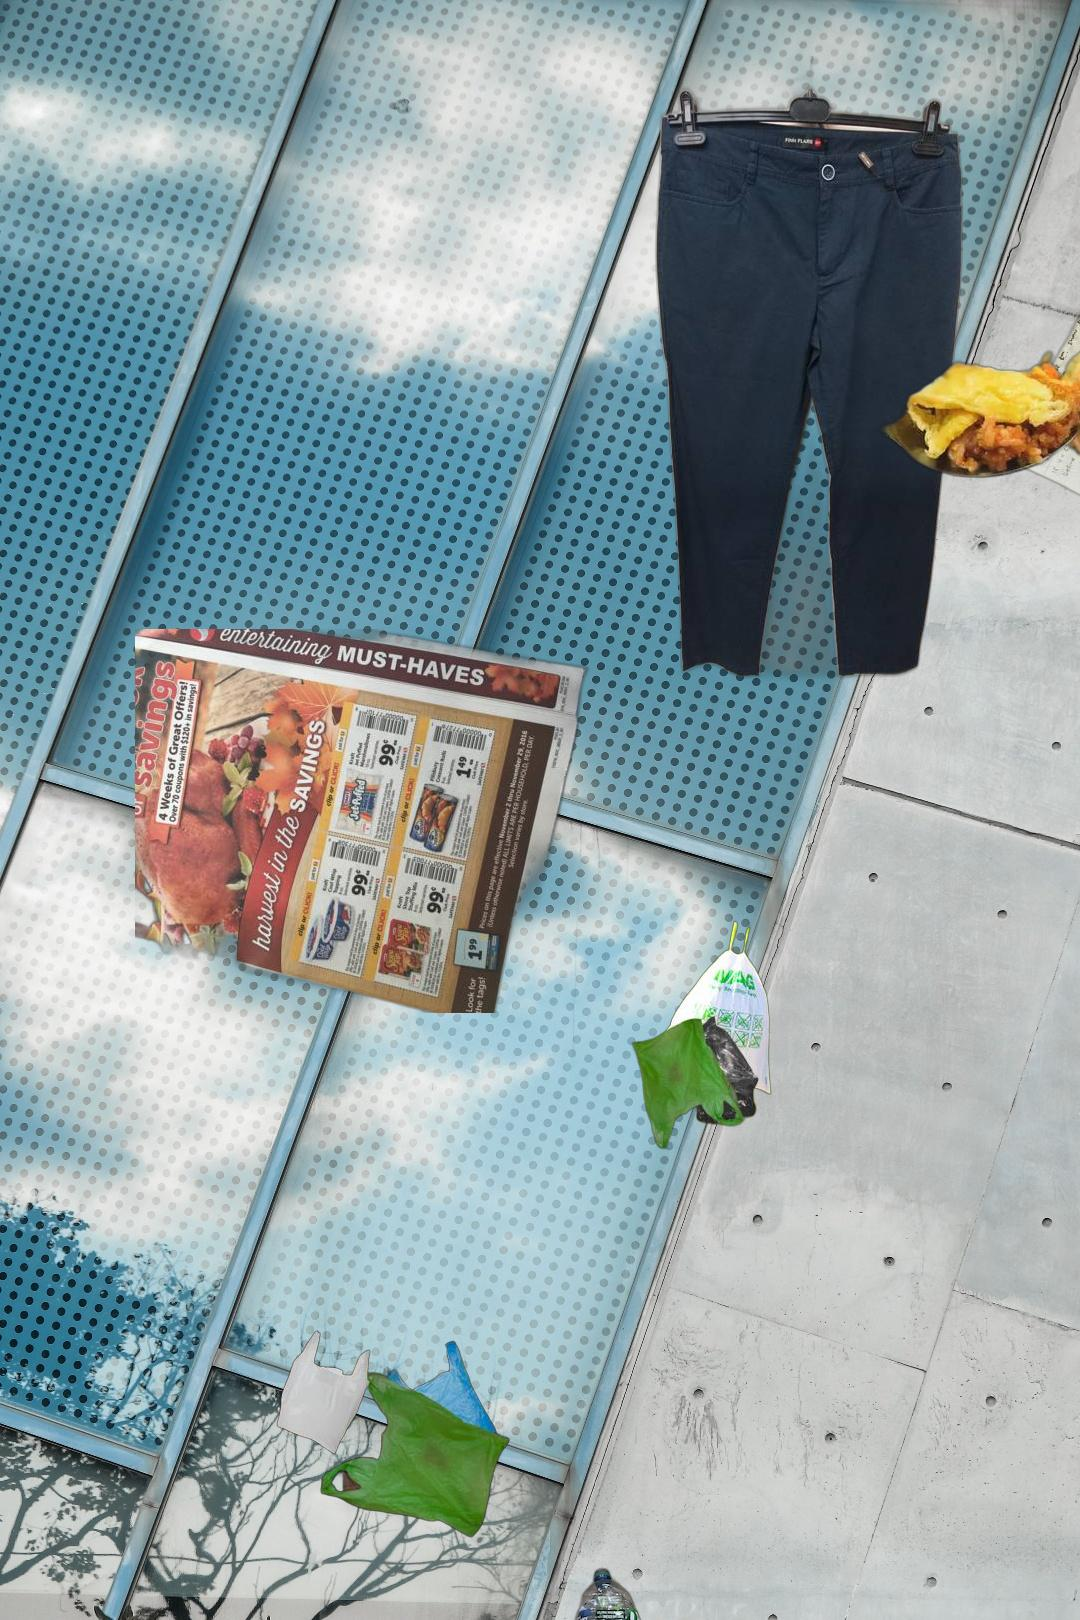biological: (818, 211, 1080, 548)
clothes: (607, 55, 965, 767)
paper: (135, 629, 591, 1012), (999, 301, 1080, 579)
plastic-bag: (274, 1330, 512, 1538), (629, 918, 771, 1151), (1043, 802, 1080, 1008)
plastic-bottles: (568, 1565, 650, 1620)
